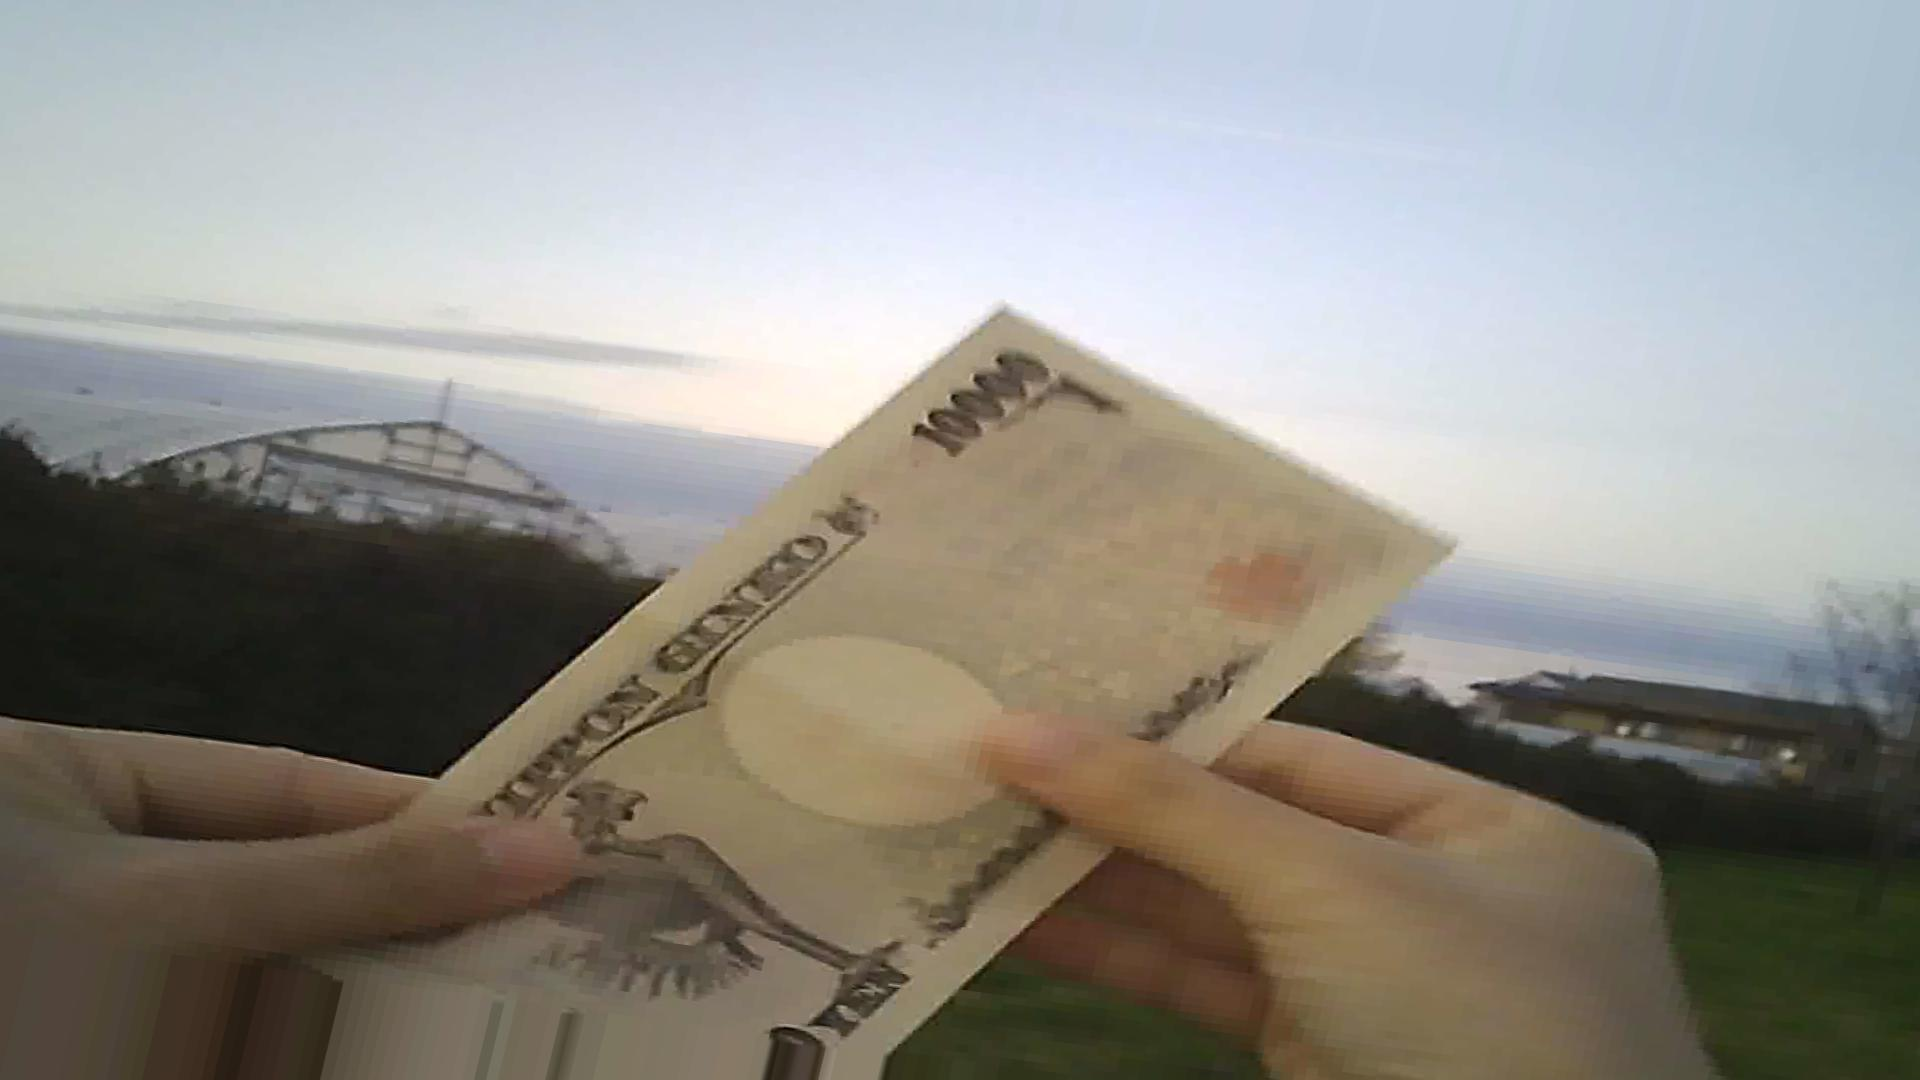10,000 Yen: (343, 239, 1461, 1060)
